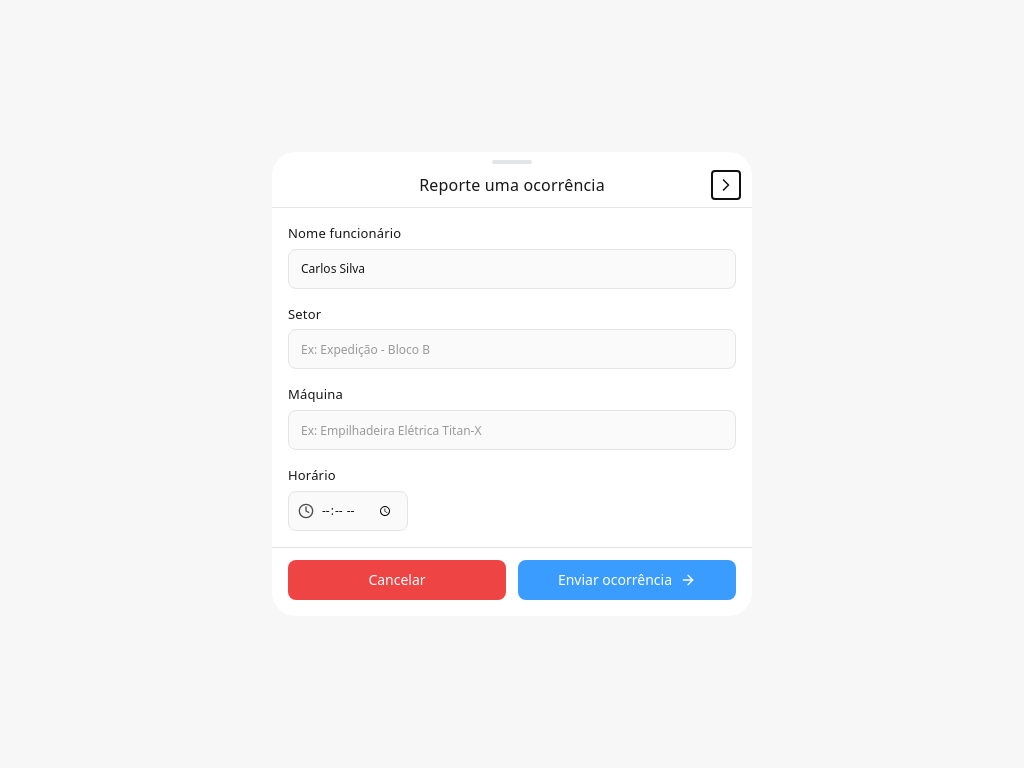
Scenario: IncidentSheet › shows the required message under every empty field and does not submit
Clear the field labelled "Nome funcionário". click: (512, 269)
box: [288,249,736,289]
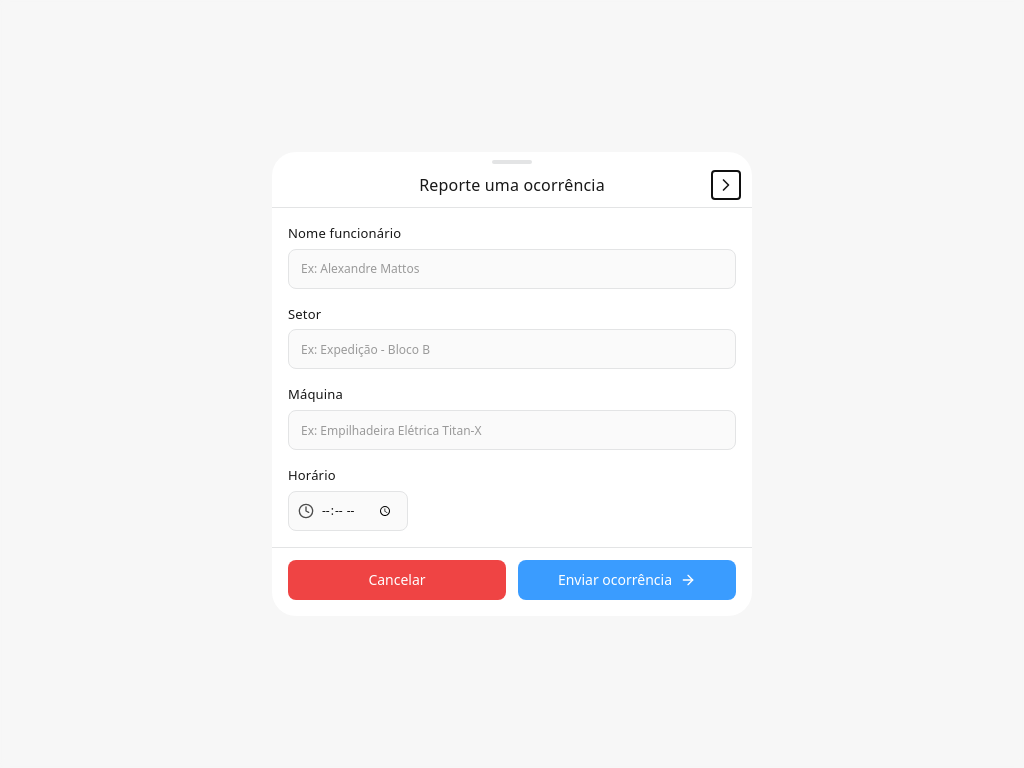
Click the button "Enviar ocorrência". click: (627, 580)
box: [518,560,736,600]
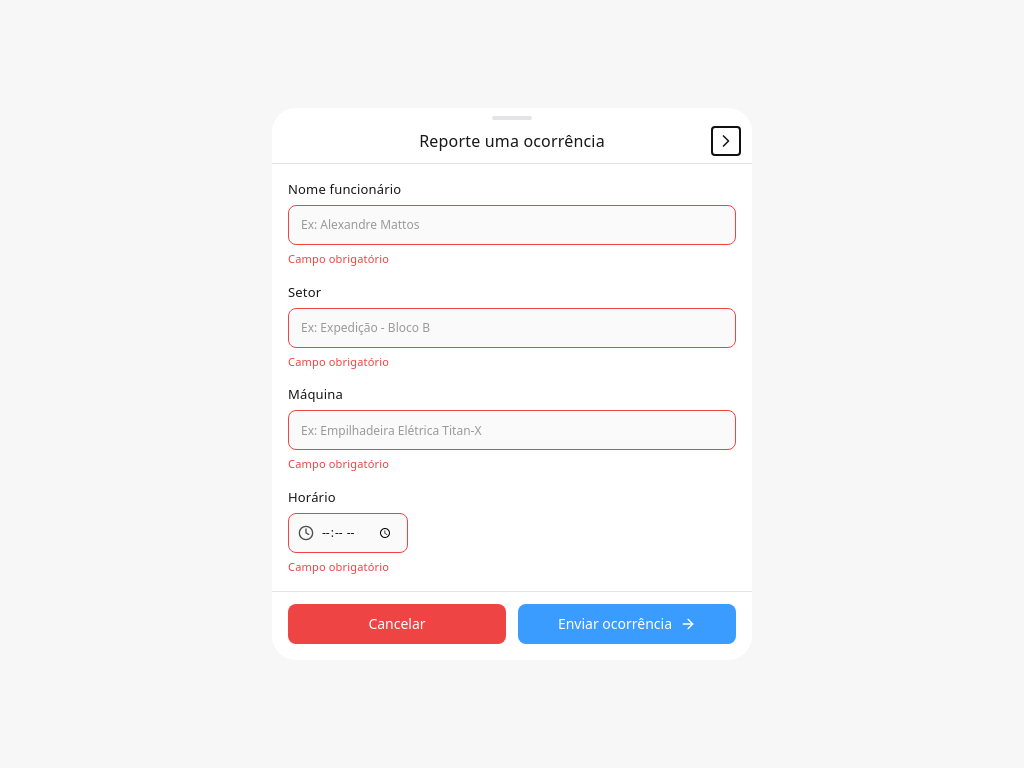
Expected: the text "Campo obrigatório" is shown 4 times, [288,251,389,266]; [288,354,389,368]; [288,456,389,471]; [288,559,389,574]
Expected: the text "Campo obrigatório" below "Nome funcionário" is shown, [288,251,389,266]
Expected: the text "Campo obrigatório" below "Setor" is shown, [288,354,389,368]
